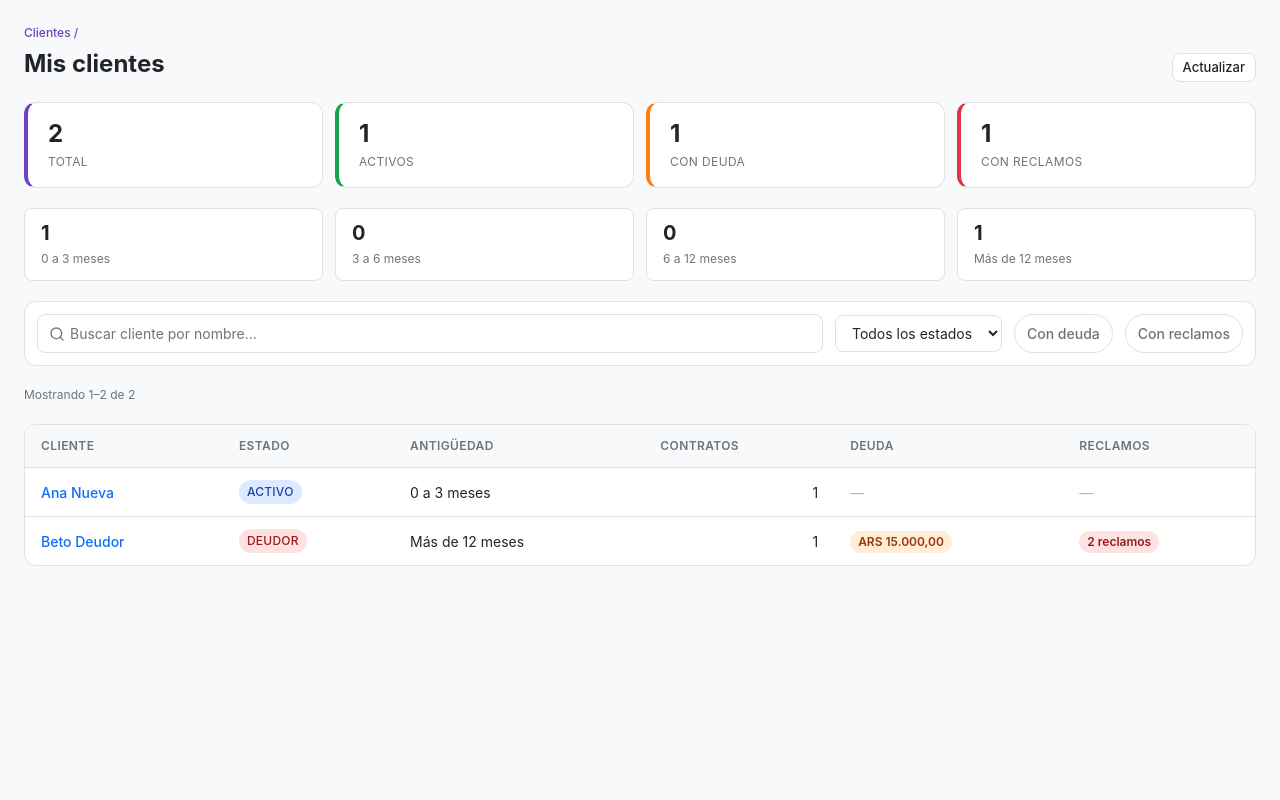
it: MisClientesPage › the "Con reclamos" toggle keeps only clients with open claims
Click the button "Con reclamos" at (1184, 334), box left=1125, top=314, right=1243, bottom=353
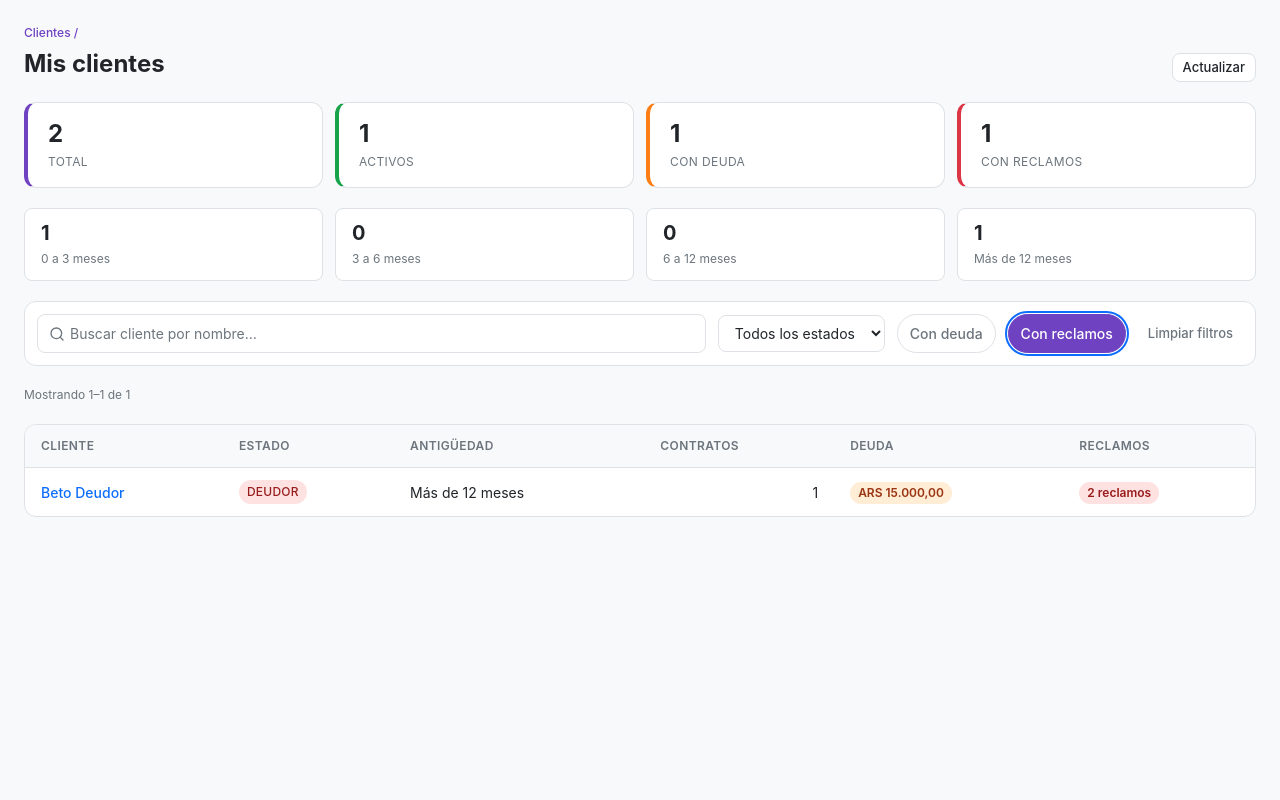
Expected: the link "Beto Deudor" is shown, left=41, top=484, right=124, bottom=500
Expected: the link "Ana Nueva" is gone
